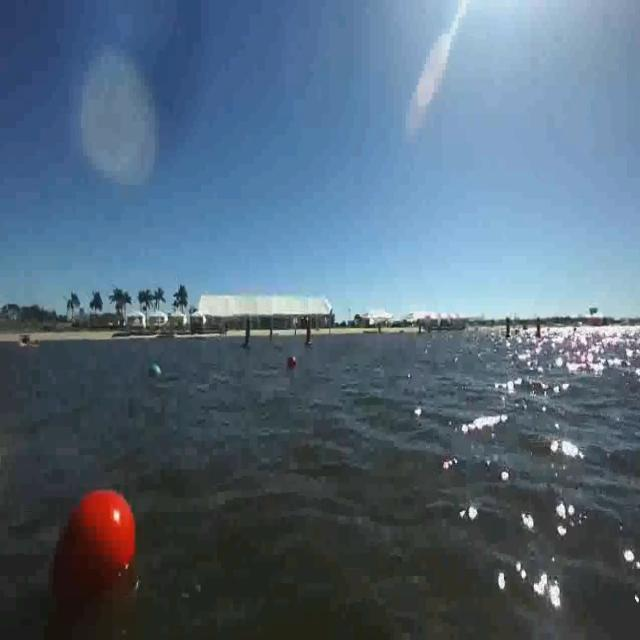green-buoy: (144, 363, 164, 378)
green-column-buoy: (240, 318, 252, 352)
red-buoy: (45, 485, 138, 626), (289, 357, 296, 368)
red-column-buoy: (302, 322, 312, 349)
